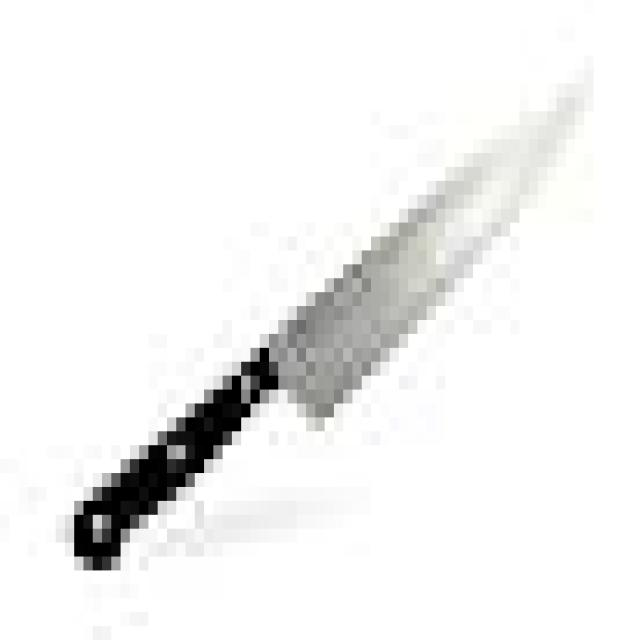Knife: (65, 56, 584, 570)
